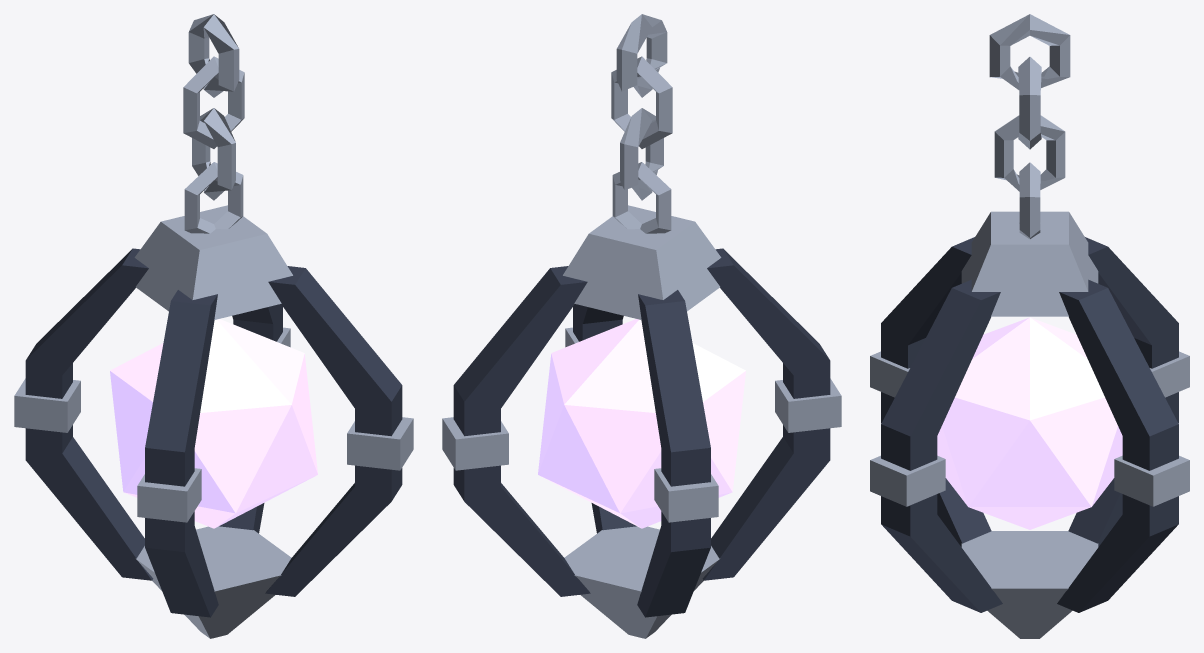
The model's file is ThunderOrb.fbx.
The picture shows the model from 3 angles, left to right: view 1: azimuth 30°, elevation 25°; view 2: azimuth 150°, elevation 25°; view 3: azimuth 270°, elevation 25°; orthographic projection.
Parts seen in each view (by area): view 1: Body_Cage_Dark, Body_Cage_Steel, Neon, Chain; view 2: Body_Cage_Dark, Body_Cage_Steel, Neon, Chain; view 3: Body_Cage_Dark, Body_Cage_Steel, Neon, Chain.
Part boxes in pixels (x1,y1,x2,y2): Body_Cage_Dark: (25,248,402,617); Body_Cage_Steel: (14,162,413,638); Neon: (110,319,317,528); Chain: (183,14,244,200); Body_Cage_Dark: (453,248,830,617); Body_Cage_Steel: (442,162,841,638); Neon: (538,319,745,528); Chain: (611,14,672,200); Body_Cage_Dark: (881,237,1178,612); Body_Cage_Steel: (870,162,1189,638); Neon: (937,317,1122,529); Chain: (989,14,1070,191).
Size of the model in its own units: 0.1853 by 0.3969 by 0.1853.
